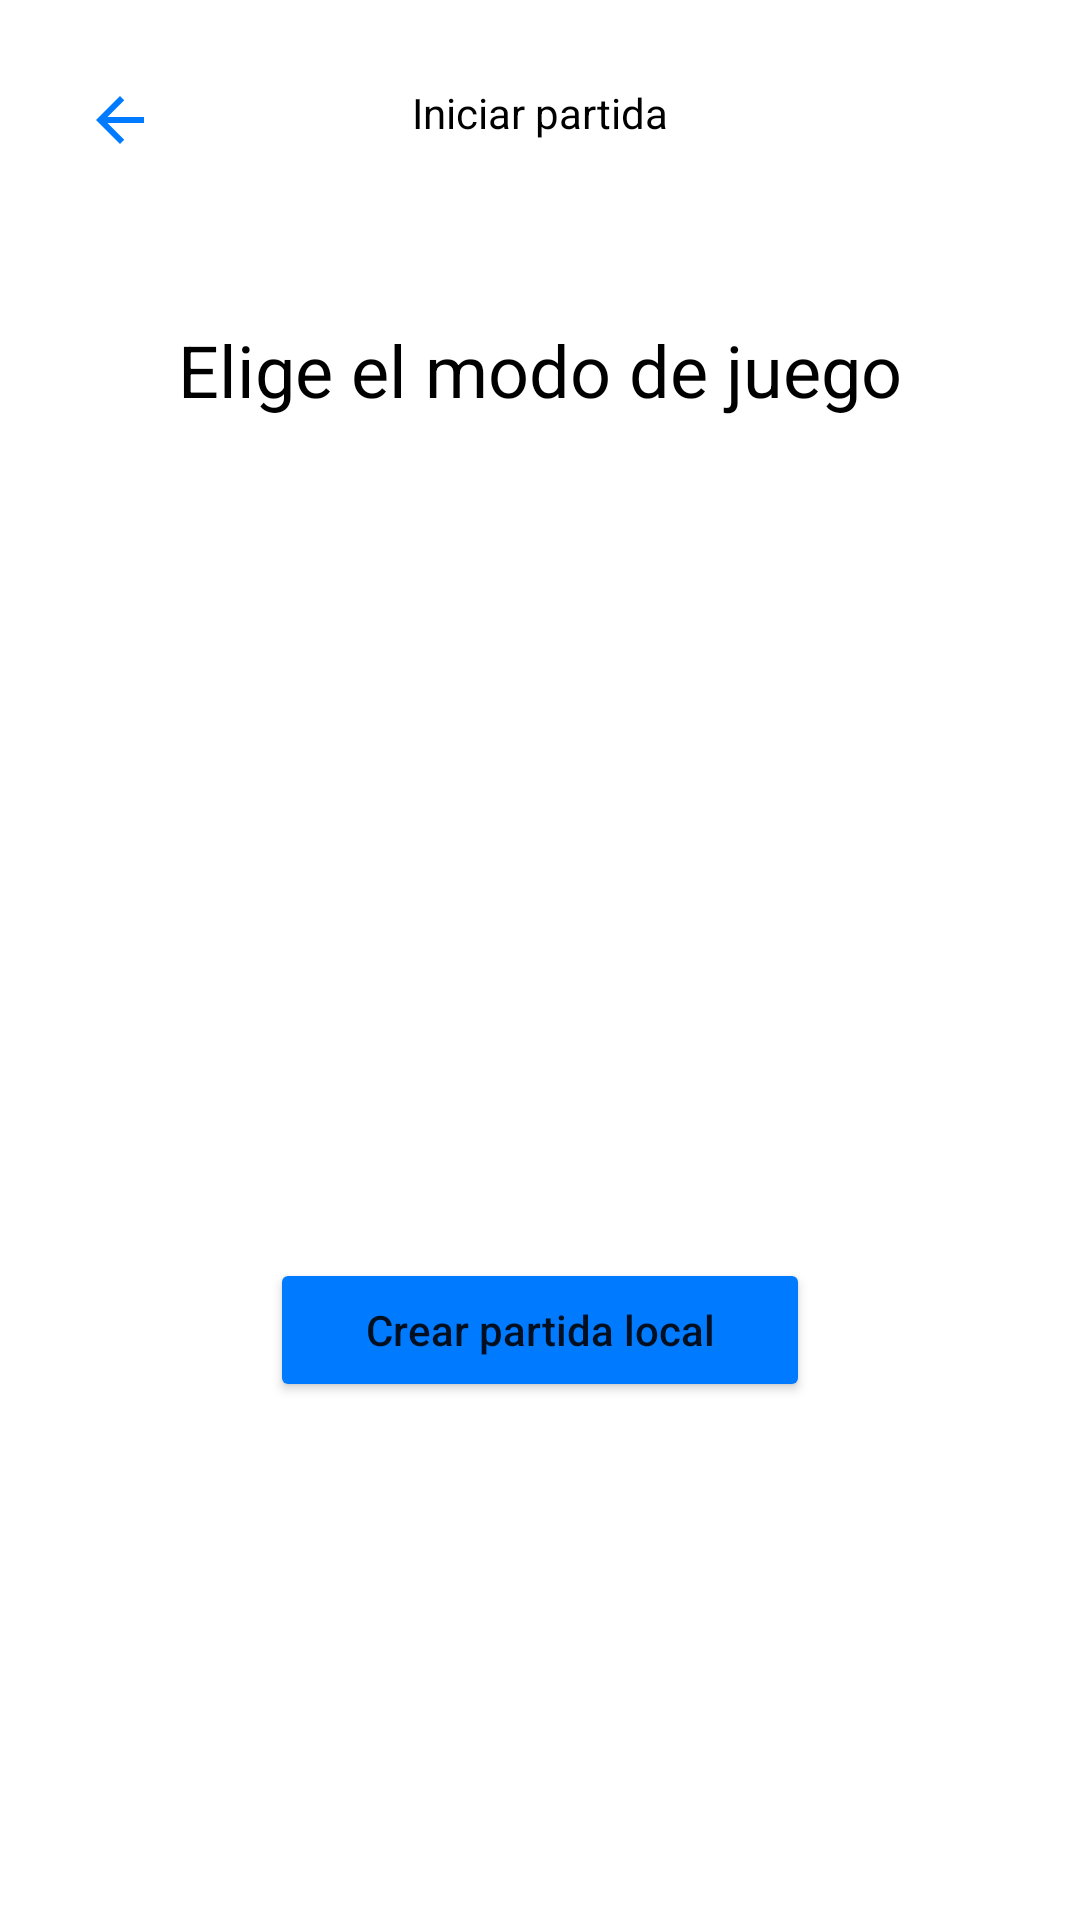

Icons on this 1080 × 1920 Android screen, each with the point to tap as [x,y]:
Boton volver desde modo de juego: [120,120]
